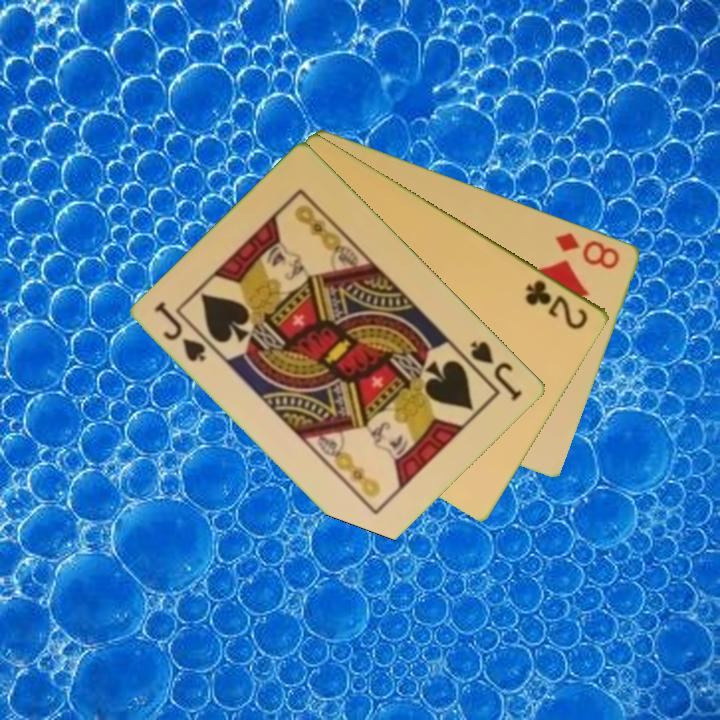2c: (522, 276, 592, 333)
8d: (552, 228, 624, 272)
Js: (467, 337, 526, 404), (151, 297, 209, 365)
